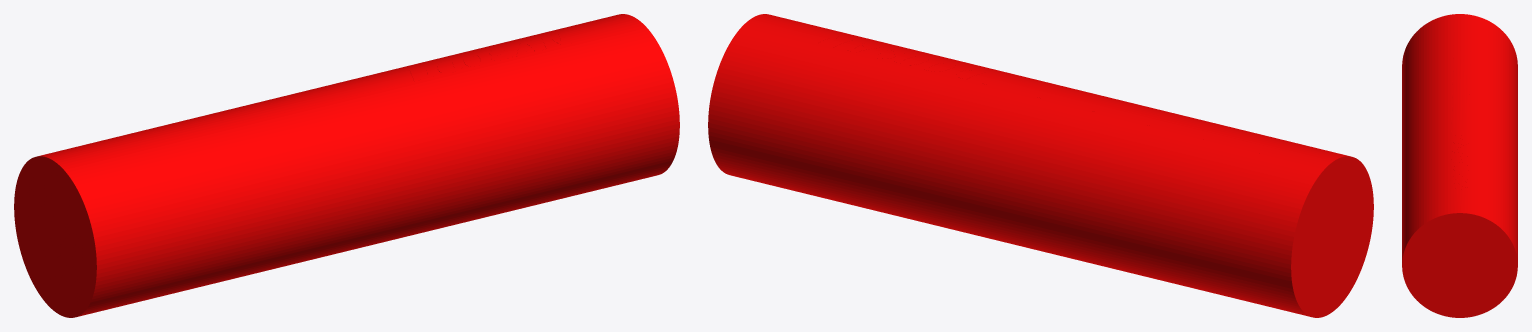
3 views of the same model, side by side, from view 1: azimuth 30°, elevation 25°; view 2: azimuth 150°, elevation 25°; view 3: azimuth 270°, elevation 25° (orthographic). The views are drawn at different scales.
Visible parts, largest first — view 1: MF1013_2_1, Doosan_Mark; view 2: MF1013_2_1, Doosan_Mark; view 3: MF1013_2_1, Doosan_Mark.
Part boxes in pixels (bbox=[...]): MF1013_2_1: bbox=[14, 14, 679, 317]; Doosan_Mark: bbox=[410, 32, 570, 81]; MF1013_2_1: bbox=[708, 14, 1373, 317]; Doosan_Mark: bbox=[809, 34, 985, 79]; MF1013_2_1: bbox=[1402, 14, 1517, 317]; Doosan_Mark: bbox=[1451, 135, 1468, 190].
Size of the model in its own units: 407 by 99.97 by 100.
